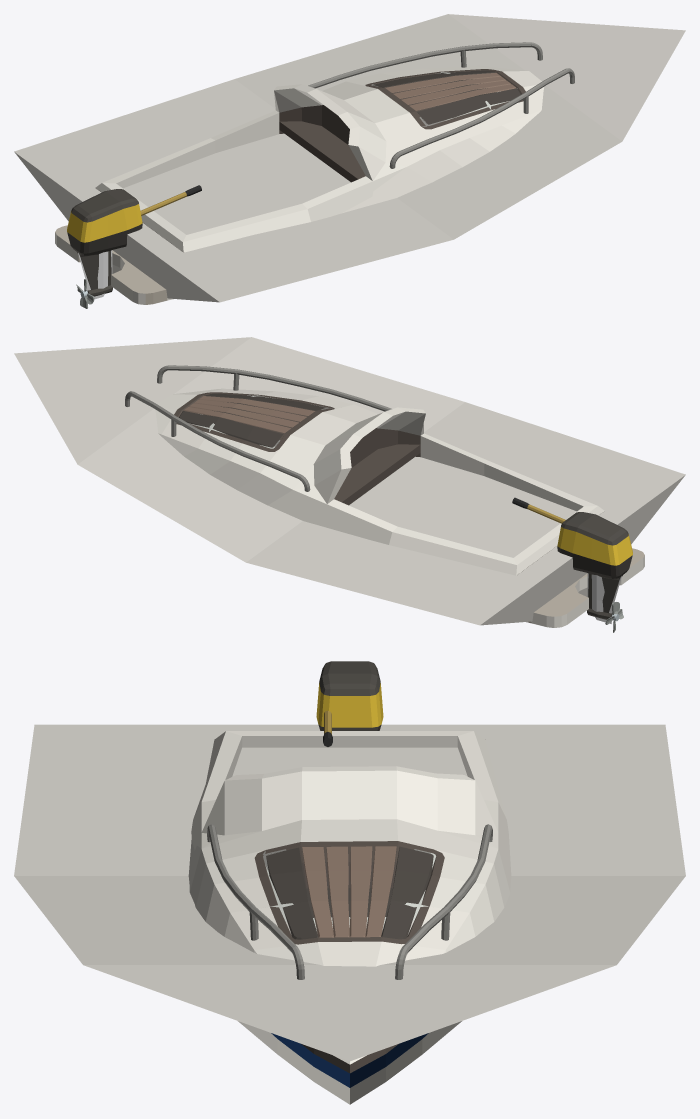
Rendered from MotorBoat.fbx.
The picture shows the model from 3 angles, top to bottom: view 1: azimuth 30°, elevation 25°; view 2: azimuth 150°, elevation 25°; view 3: azimuth 270°, elevation 25°; orthographic projection. The views are drawn at different scales.
Visible parts, largest first — view 1: MotorBoat.HULL, MotorBoat, Motor.002, MotorBoat.COL.004, MotorBoat.COL.011, MotorBoat.COL.008, MotorBoat.COL.001, MotorBoatGlass.002, MotorBoatGlass, MotorBoat.COL.007, MotorBoat.COL.003, MotorBoatGlass.001 (+7 smaller); view 2: MotorBoat.HULL, MotorBoat, Motor.002, MotorBoatGlass.001, MotorBoatGlass, MotorBoat.COL.001, MotorBoatGlass.002, MotorBoatRail.003, MotorBoatRail.001, MotorBoat.COL.002, MotorBoatRail.002, MotorBoatRail (+3 smaller); view 3: MotorBoat.HULL, MotorBoat, MotorBoatGlass, Motor.002, MotorBoatGlass.001, MotorBoatGlass.002, MotorBoat.COL.005, MotorBoat.COL.002, MotorBoat.COL.011, MotorBoatRail, MotorBoatRail.003, MotorBoat.COL.004.
Part boxes in pixels (x1,y1,x2,y2): MotorBoat.HULL: (14,14,685,302); MotorBoat: (55,65,544,304); Motor.002: (67,189,142,256); MotorBoat.COL.004: (183,204,310,252); MotorBoat.COL.011: (375,113,439,166); MotorBoat.COL.008: (307,167,405,221); MotorBoat.COL.001: (284,121,365,179); MotorBoatGlass.002: (348,126,386,180); MotorBoatGlass: (294,84,385,140); MotorBoat.COL.007: (215,113,279,152); MotorBoat.COL.003: (116,140,215,188); MotorBoatGlass.001: (274,84,321,112); MotorBoat.HULL: (14,337,685,625); MotorBoat: (155,388,644,627); Motor.002: (557,512,632,579); MotorBoatGlass.001: (313,449,351,503); MotorBoatGlass: (314,407,405,463); MotorBoat.COL.001: (339,444,419,492); MotorBoatGlass.002: (378,407,425,435); MotorBoatRail.003: (157,365,268,390); MotorBoatRail.001: (194,428,310,491); MotorBoat.COL.002: (189,395,333,448); MotorBoatRail.002: (268,374,391,411); MotorBoatRail: (125,391,196,436); MotorBoat.HULL: (14,724,685,1061); MotorBoat: (188,731,511,1104); MotorBoatGlass: (262,766,437,830); Motor.002: (316,661,383,730); MotorBoatGlass.001: (435,773,498,835); MotorBoatGlass.002: (201,774,263,835); MotorBoat.COL.005: (242,736,457,747); MotorBoat.COL.002: (238,845,461,1064); MotorBoat.COL.011: (201,820,301,863); MotorBoatRail: (395,890,465,979); MotorBoatRail.003: (234,890,304,979); MotorBoat.COL.004: (193,731,225,818).
Bounding box in the file's own units: 13.25 × 3.07 × 8.23.
1 material, 1 textured.
